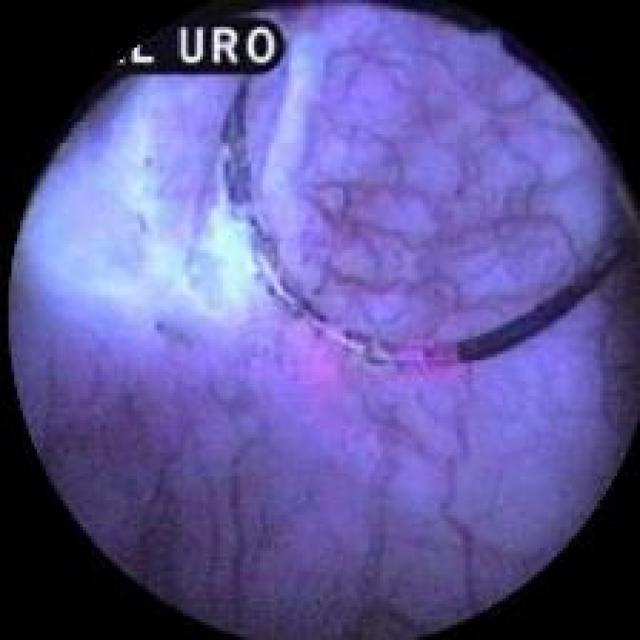color misalignment: (114, 19, 283, 71)
instrument: (230, 6, 622, 365)
